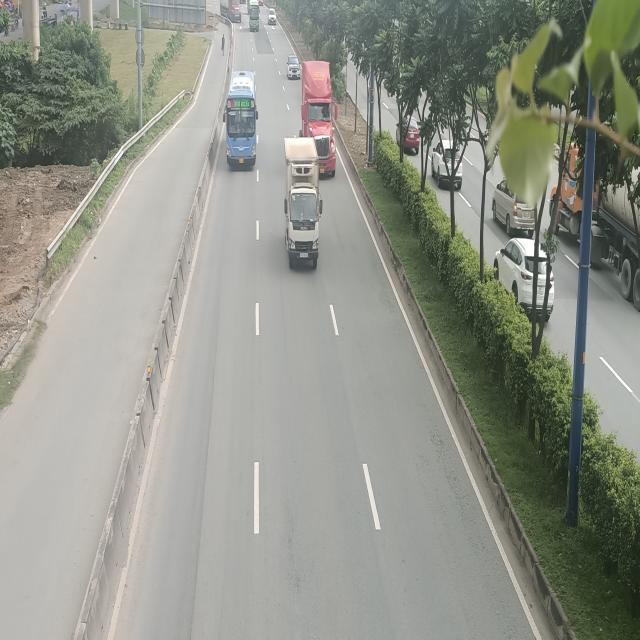car: (286, 54, 300, 82), (268, 8, 277, 24)
coach: (225, 71, 257, 172), (249, 0, 260, 32)
container: (301, 61, 338, 178), (219, 0, 242, 23)
truck: (282, 137, 320, 270)
